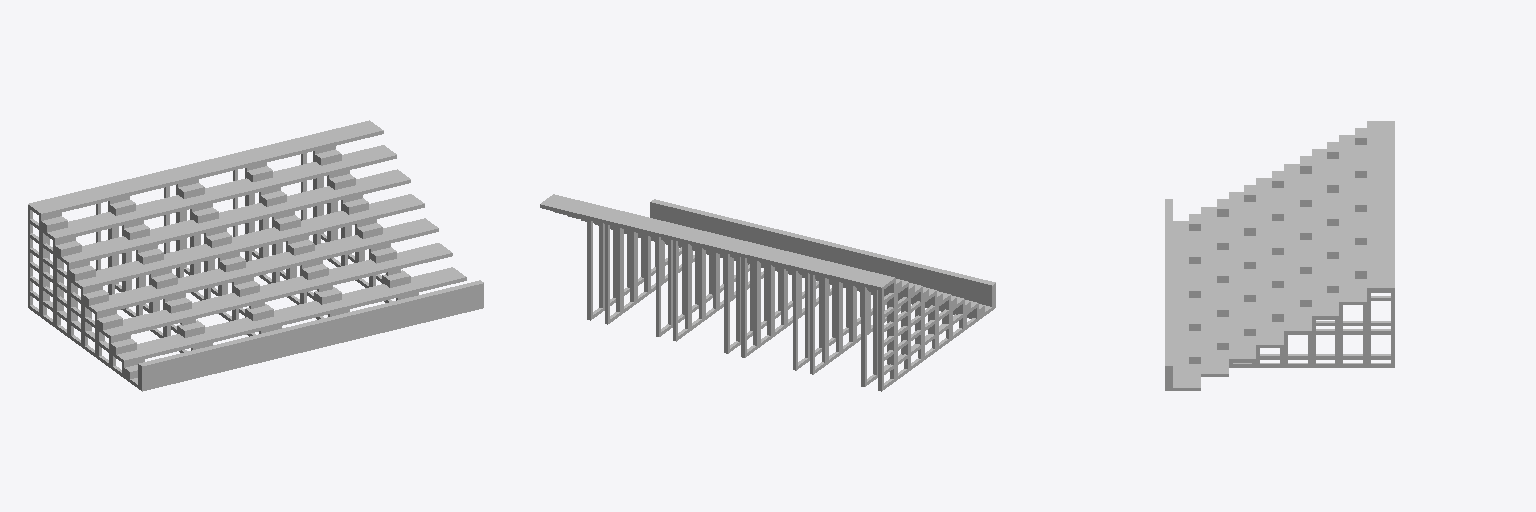
Rendered from prop_tribuene_middle.obj.
3 views of the same model, side by side, from view 1: azimuth 30°, elevation 25°; view 2: azimuth 150°, elevation 25°; view 3: azimuth 270°, elevation 25° (orthographic).
Visible parts, largest first — view 1: object 1; view 2: object 1; view 3: object 1.
Boxes of the visible parts, x1=… form: object 1: x1=28, y1=120, x2=483, y2=391; object 1: x1=540, y1=194, x2=995, y2=391; object 1: x1=1165, y1=121, x2=1394, y2=390.
Bounding box in the file's own units: 10 × 2.9 × 5.8.